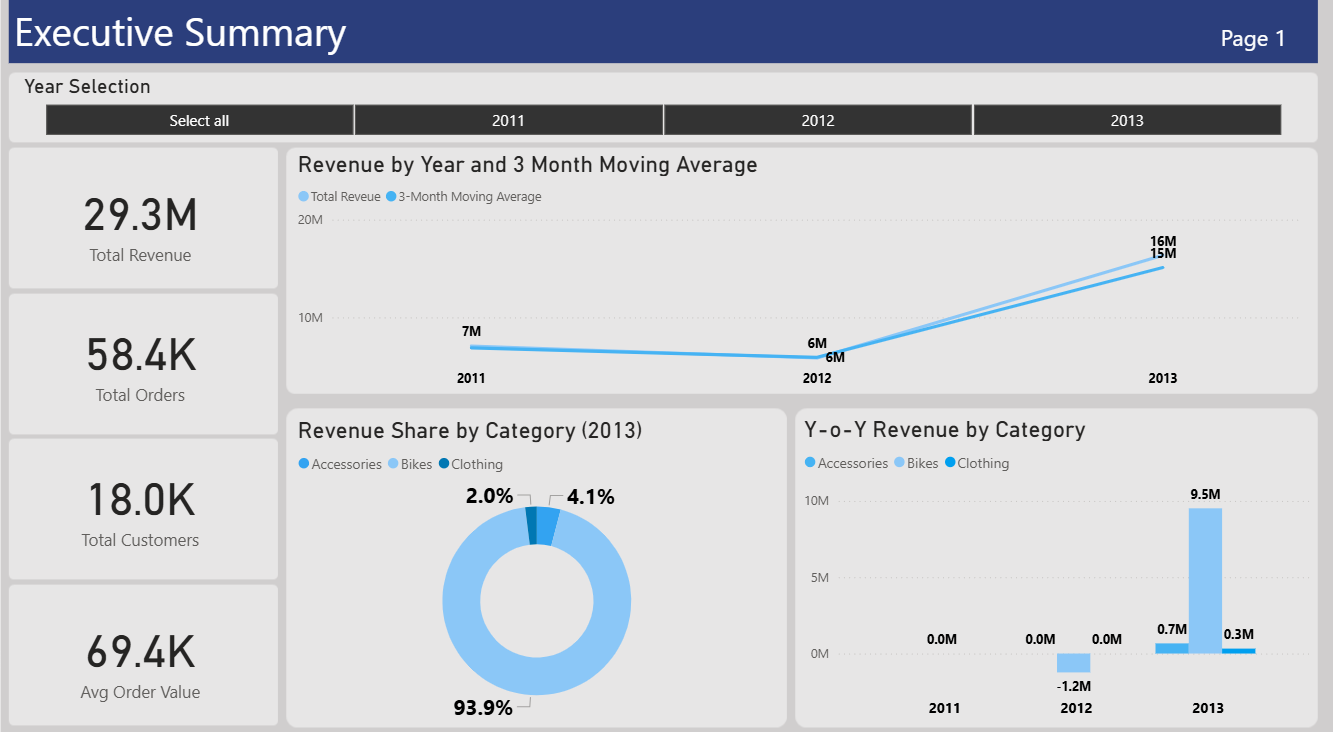

Layout of this report page (visuals, bound fields, positions):
{"tool":"powerbi","page":{"name":"Executive Overview","canvas":[1280,720],"ordinal":0},"visuals":[{"type":"card","fields":{"Values":["Sum(Revenue (Monthly ).monthly_revenue)"]},"box":[17.8,158.9,233.3,121.1],"z":0},{"type":"card","fields":{"Values":["Sum(Product_Report.Total Orders)"]},"box":[17.8,293.2,233.3,121.1],"z":1000},{"type":"card","fields":{"Values":["Sum(Revenue (Monthly ).avg_order_value)"]},"box":[17.8,578.8,233.3,120],"z":2000},{"type":"slicer","title":"Year Selection","fields":{"Values":["Date.Year"]},"box":[17.8,80,1234.4,63.3],"z":3000},{"type":"lineChart","title":"Revenue by Year and 3 Month Moving Average","fields":{"Y":["Sum(Revenue (Monthly ).monthly_revenue)","Sum(Revenue (Monthly ).moving_avg_3m)"],"Category":["_Date.Year"]},"box":[279.9,152.9,972.4,236.6],"z":4000},{"type":"card","fields":{"Values":["Count(Final Output - Customer report.customer_key)"]},"box":[17.8,432.2,233.3,121.1],"z":5000},{"type":"donutChart","title":"Revenue Share by Category (2013)","fields":{"Y":["Category Share.Category Revenue Share(2013)"],"Category":["Category Share.Category"]},"box":[279.9,408.3,468.9,298.7],"z":6000},{"type":"clusteredColumnChart","title":"Y-o-Y Revenue by Category ","fields":{"Category":["Category Share.Year"],"Series":["Category Share.Category"],"Y":["Category Share.YoY_Display"]},"box":[765.6,407.8,498.9,298.9],"z":7000},{"type":"textbox","box":[8.7,8.7,1255.2,60.6],"z":8000}]}

Visuals, with their boxes in screenshot pixels (x1, y1, x2, y2), scaled from the page's 1280x720 canvas onto the 1333x732 screenshot:
card - Sum(Revenue (Monthly ).monthly_revenue): pyautogui.locateOnScreen(19, 162, 261, 285)
card - Sum(Product_Report.Total Orders): pyautogui.locateOnScreen(19, 298, 261, 421)
card - Sum(Revenue (Monthly ).avg_order_value): pyautogui.locateOnScreen(19, 588, 261, 710)
"Year Selection" slicer: pyautogui.locateOnScreen(19, 81, 1304, 146)
"Revenue by Year and 3 Month Moving Average" lineChart: pyautogui.locateOnScreen(291, 155, 1304, 396)
card - Count(Final Output - Customer report.customer_key): pyautogui.locateOnScreen(19, 439, 261, 563)
"Revenue Share by Category (2013)" donutChart: pyautogui.locateOnScreen(291, 415, 780, 719)
"Y-o-Y Revenue by Category " clusteredColumnChart: pyautogui.locateOnScreen(797, 415, 1317, 718)
textbox: pyautogui.locateOnScreen(9, 9, 1316, 70)
